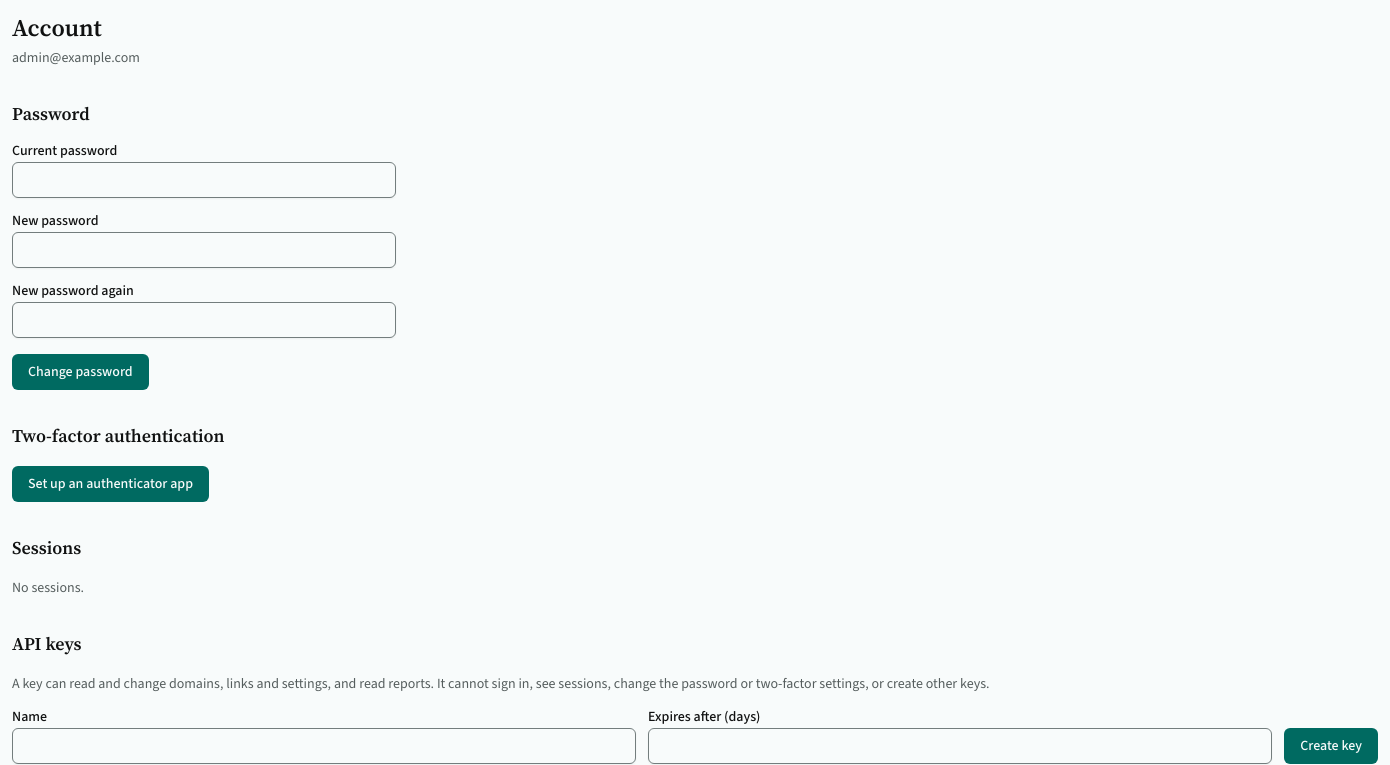
Scenario: the account screen › changes the password, says how many other sessions were signed out, and reloads the sessions list
Expected: the heading "Sessions" is shown, [12,535,81,560]
Type "the old one" into the password field labelled "Current password".
click(204, 180); type("the old one")  # box [12,162,396,198]
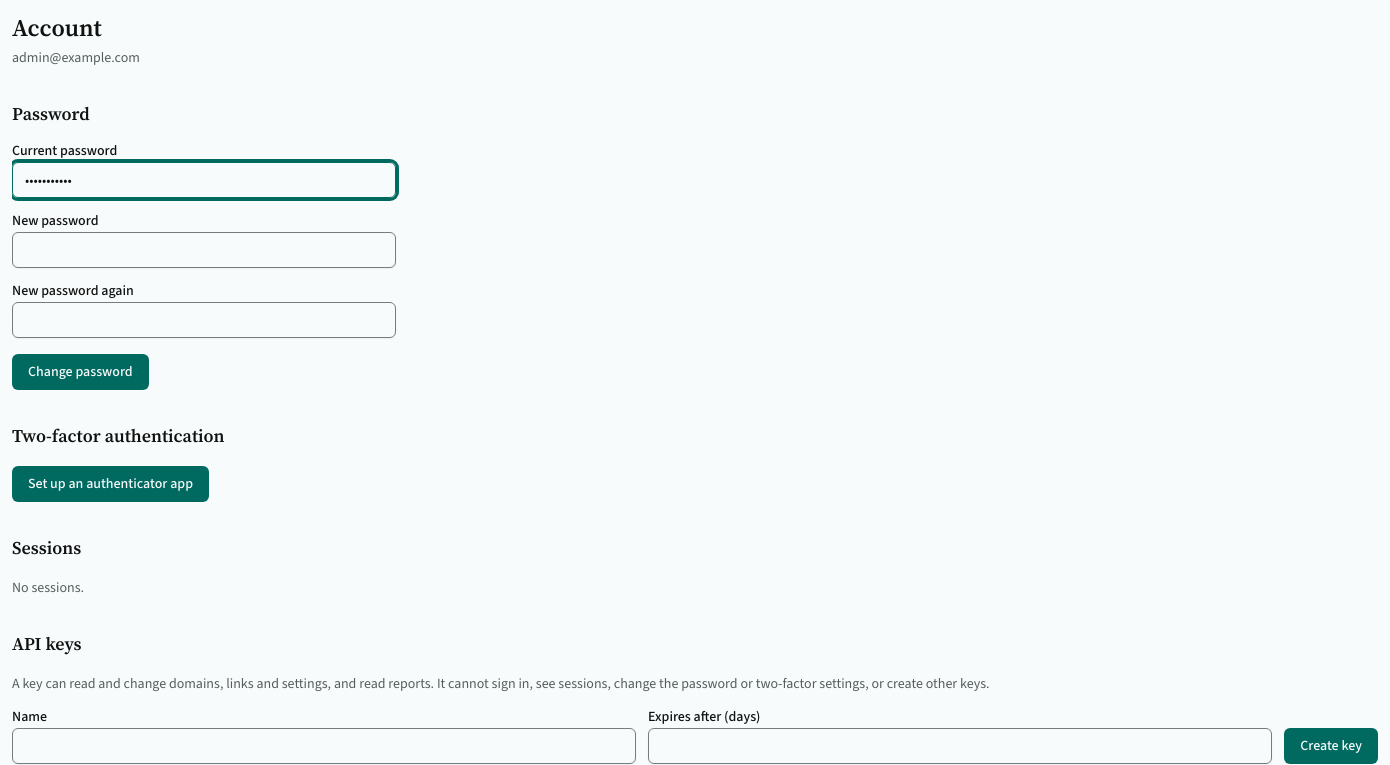
Type "a new decent password" into the password field labelled "New password".
click(204, 250); type("a new decent password")  # box [12,232,396,268]
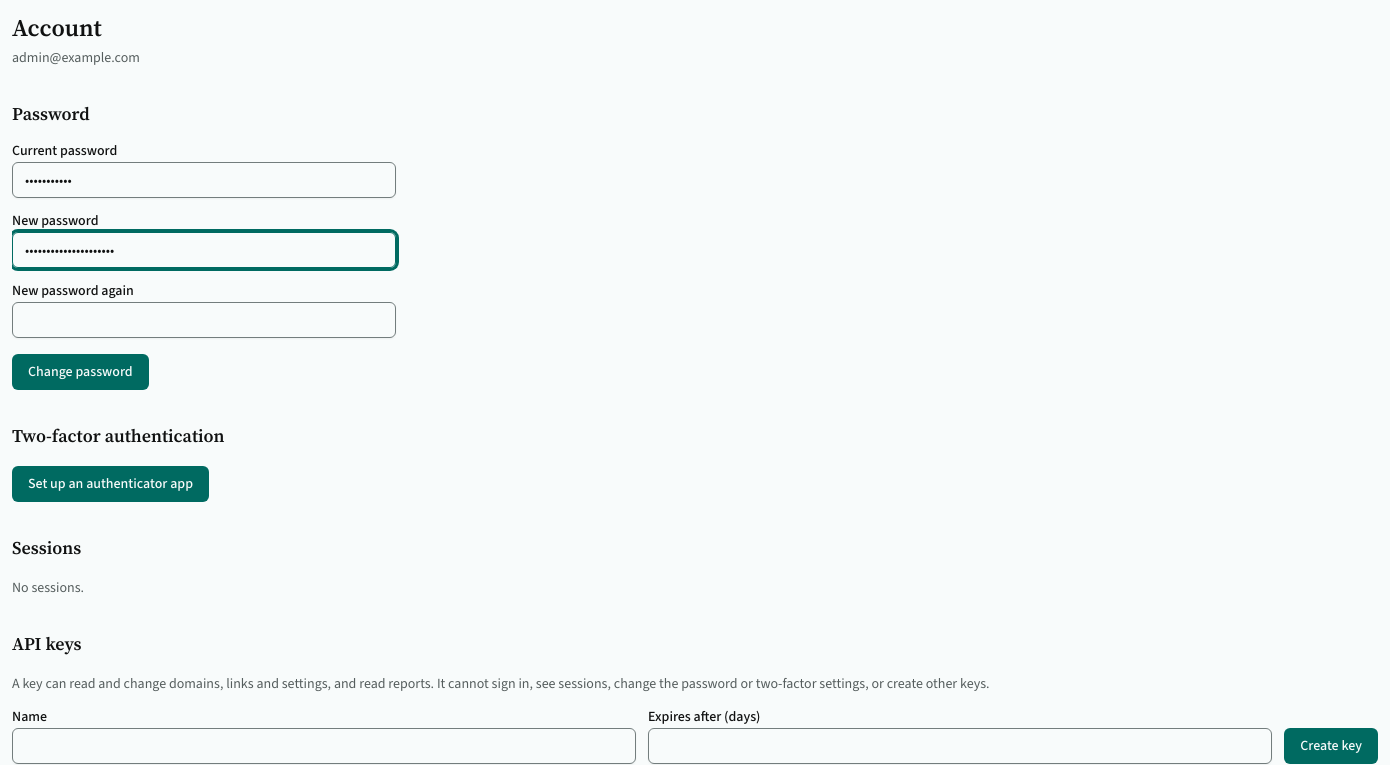
Type "a new decent password" into the password field labelled "New password again".
click(204, 320); type("a new decent password")  # box [12,302,396,338]
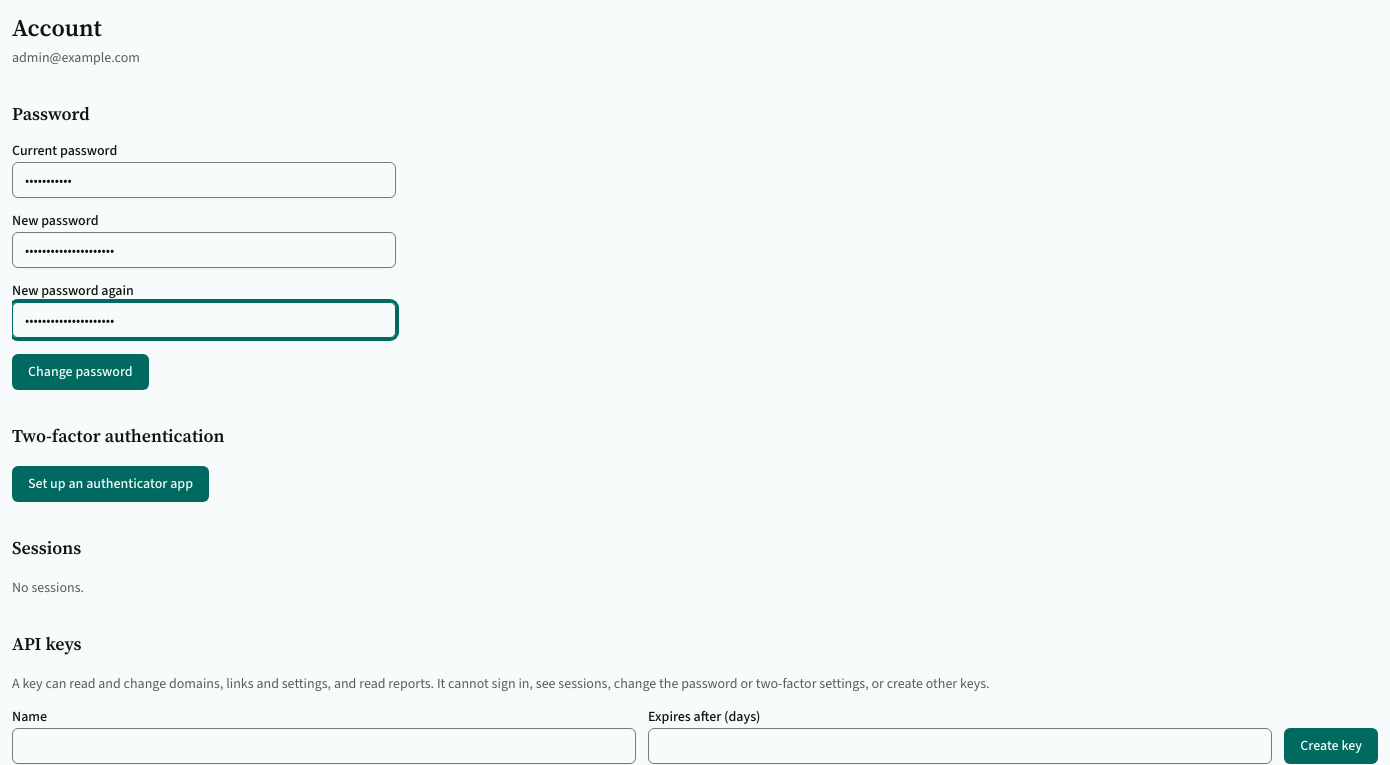
Click the button "Change password".
click(80, 372)  # box [12,354,149,390]
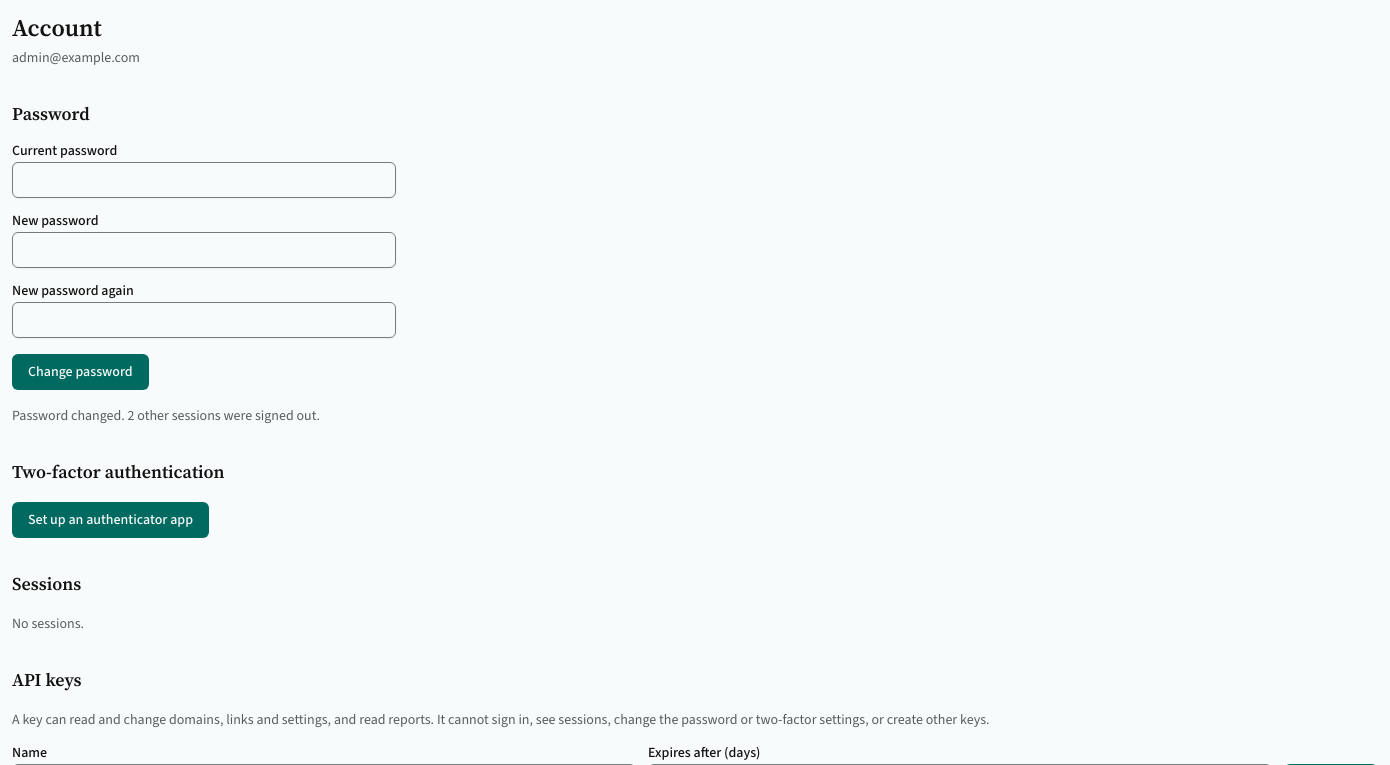
Now the text "Password changed. 2 other sessions were signed out." is shown, box [12,406,320,425]
